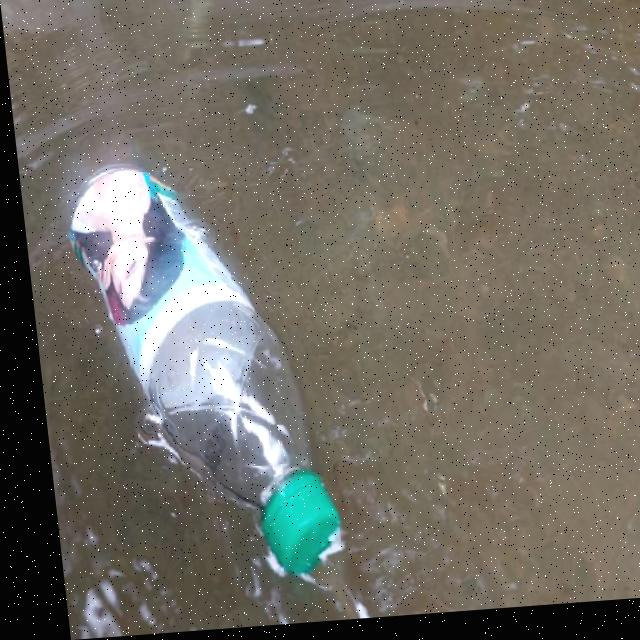waterbottle: (58, 118, 361, 602)
